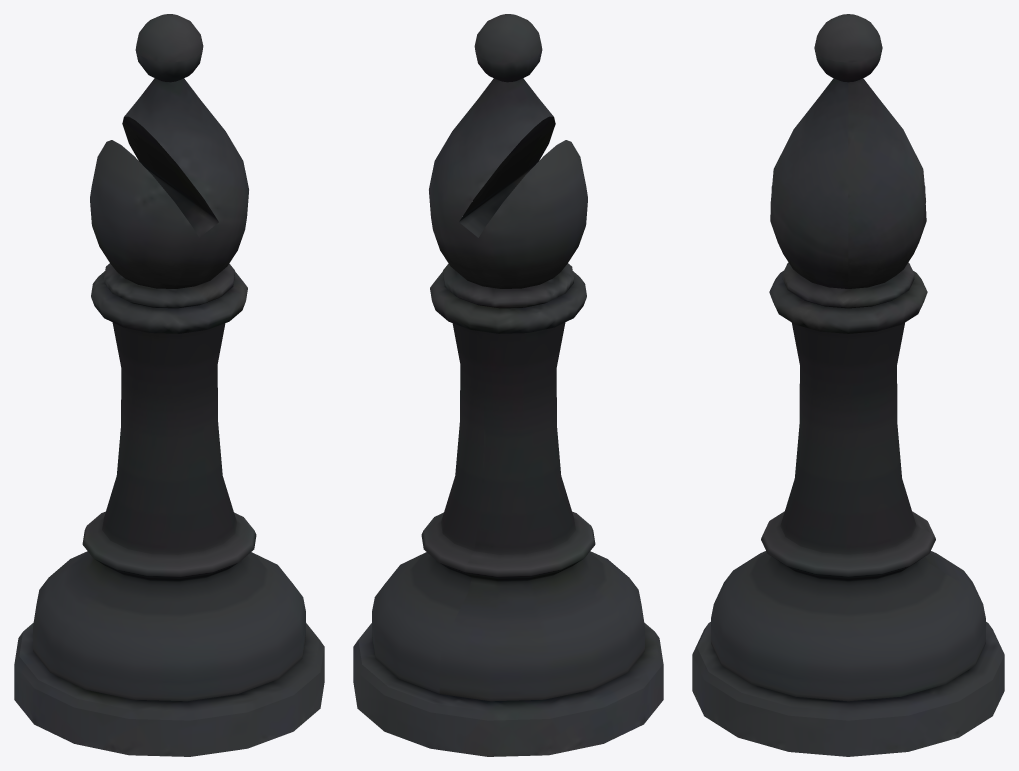
File: bishop_black.glb
The picture shows the model from 3 angles, left to right: view 1: azimuth 30°, elevation 25°; view 2: azimuth 150°, elevation 25°; view 3: azimuth 270°, elevation 25°; orthographic projection.
Parts seen in each view (by area): view 1: mesh_0, mesh_0_1; view 2: mesh_0, mesh_0_1; view 3: mesh_0.
Boxes of the visible parts, box(x1,y1,x2,y2) form: mesh_0: box(14, 14, 324, 756); mesh_0_1: box(122, 116, 218, 237); mesh_0: box(353, 14, 663, 756); mesh_0_1: box(459, 116, 555, 237); mesh_0: box(692, 14, 1004, 756).
Bounding box in the file's own units: 1.28 × 3.05 × 1.28.
2 materials, 2 textured.
